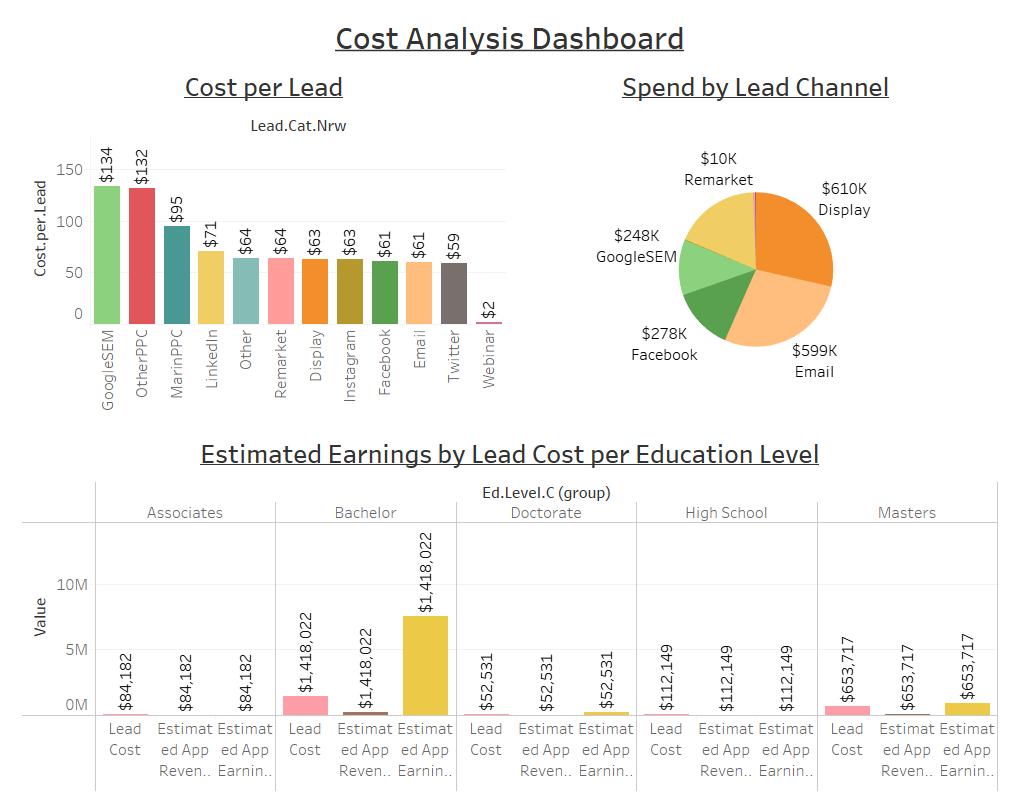

What the dashboard file says about the page in this screenshot:
{"tool":"tableau","page":{"name":"Cost Dashboard","canvas":[1000,800],"ordinal":0},"visuals":[{"type":"title","box":[8,8,984,49]},{"type":"worksheet","title":"Cost per Lead","mark":"Automatic","rows":["Calculation_2107121695353344007"],"cols":["lead.cat.nrw"],"box":[8,57,492,367.5]},{"type":"worksheet","title":"Spend by Lead Channel","mark":"Pie","box":[500,57,492,367.5]},{"type":"worksheet","title":"Estimated Earnings","mark":"Automatic","box":[8,424.5,984,367.5]}]}

Visuals, with their boxes in screenshot pixels (x1, y1, x2, y2), scaled from the page's 1000x800 canvas onto the 1011x810 screenshot:
title: (left=8, top=8, right=1003, bottom=58)
"Cost per Lead" worksheet: (left=8, top=58, right=505, bottom=430)
"Spend by Lead Channel" worksheet (Pie marks): (left=505, top=58, right=1003, bottom=430)
"Estimated Earnings" worksheet: (left=8, top=430, right=1003, bottom=802)
